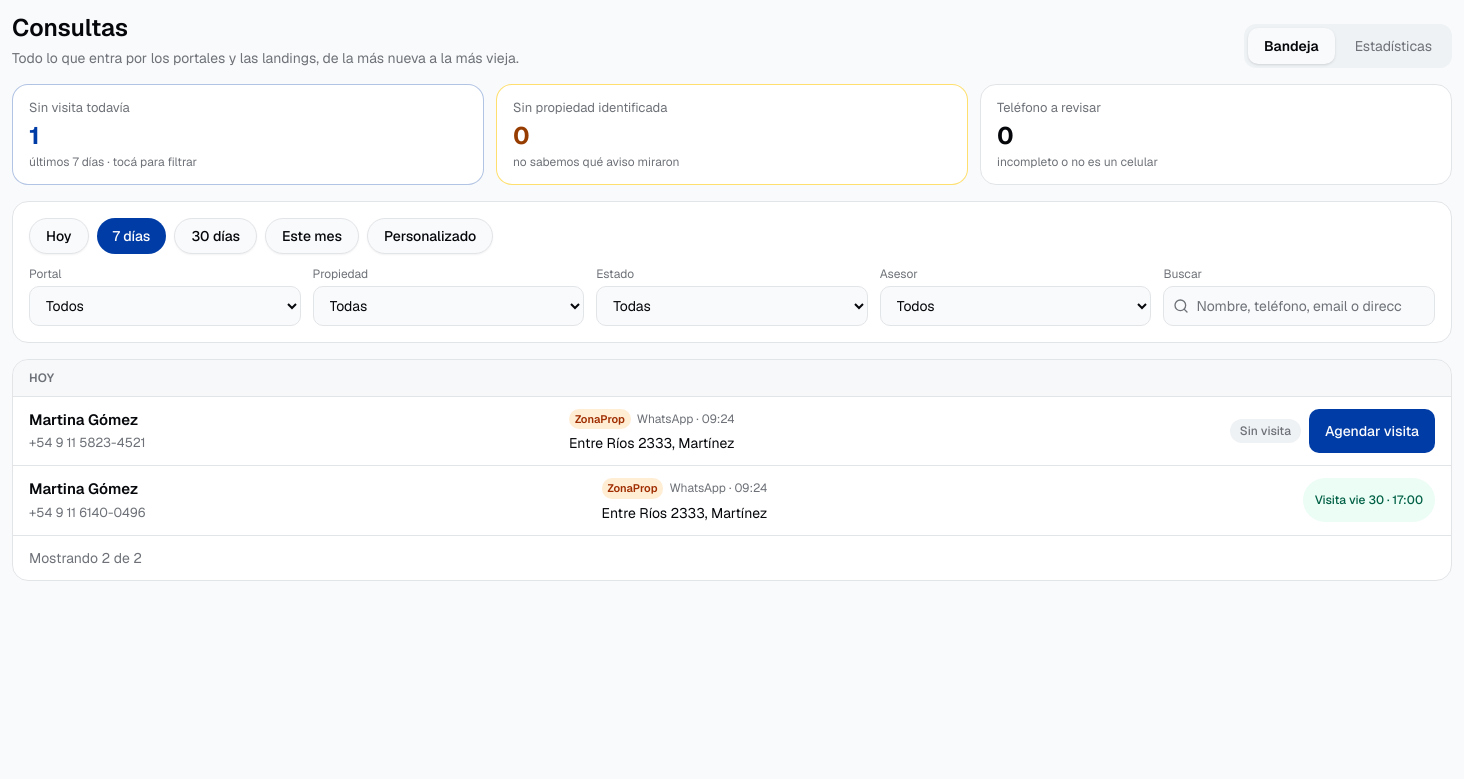
Scenario: /consultas — estadísticas › la pestaña muestra el recorrido y las tablas, sin pedir nada
Click the tab "Estadísticas".
click(1393, 46)  # box [1339,28,1448,64]
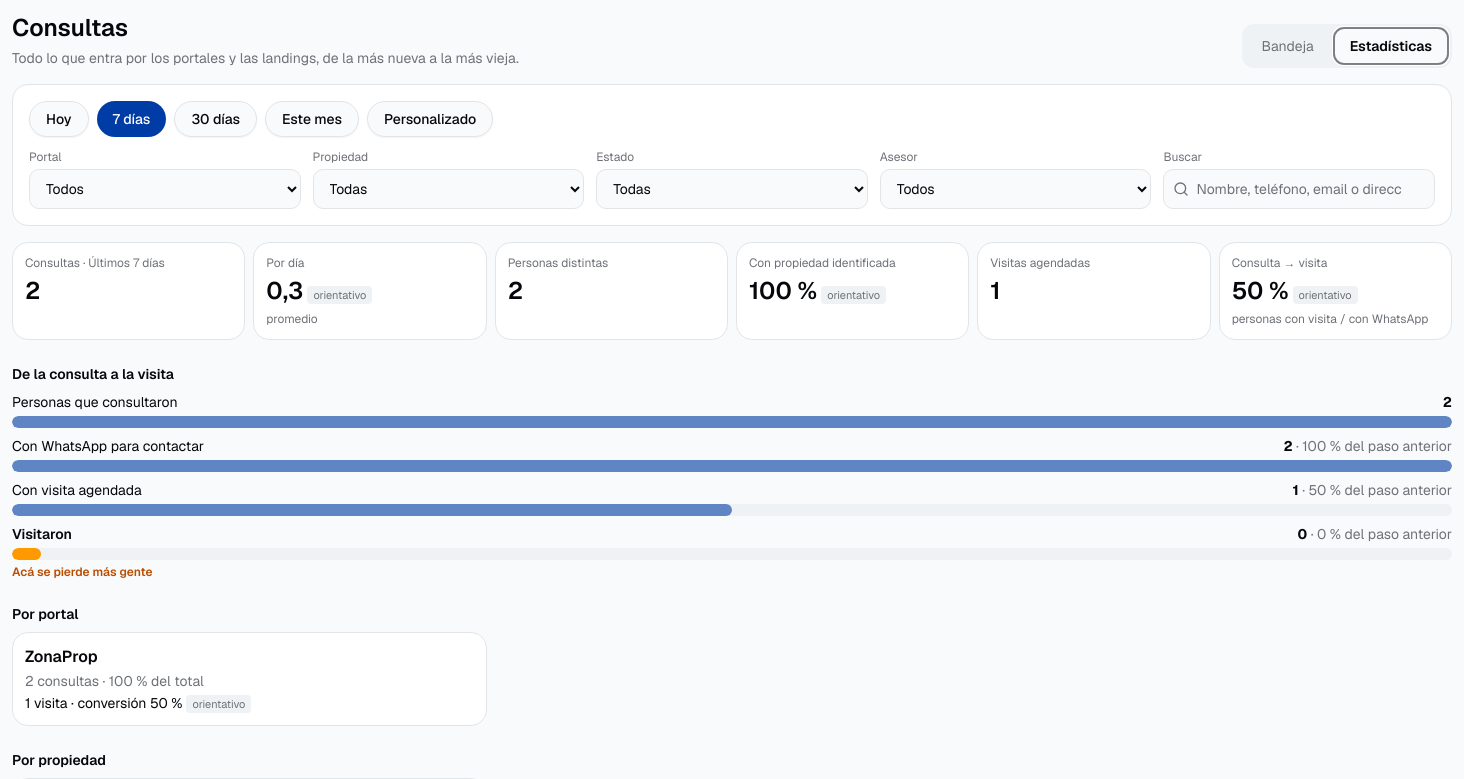
Expected: the element "De la consulta a la visita" is shown, [12,364,1452,580]
Expected: the element "Por portal" is shown, [12,605,487,726]
Expected: the text "Personas que consultaron" is shown, [12,392,178,412]
